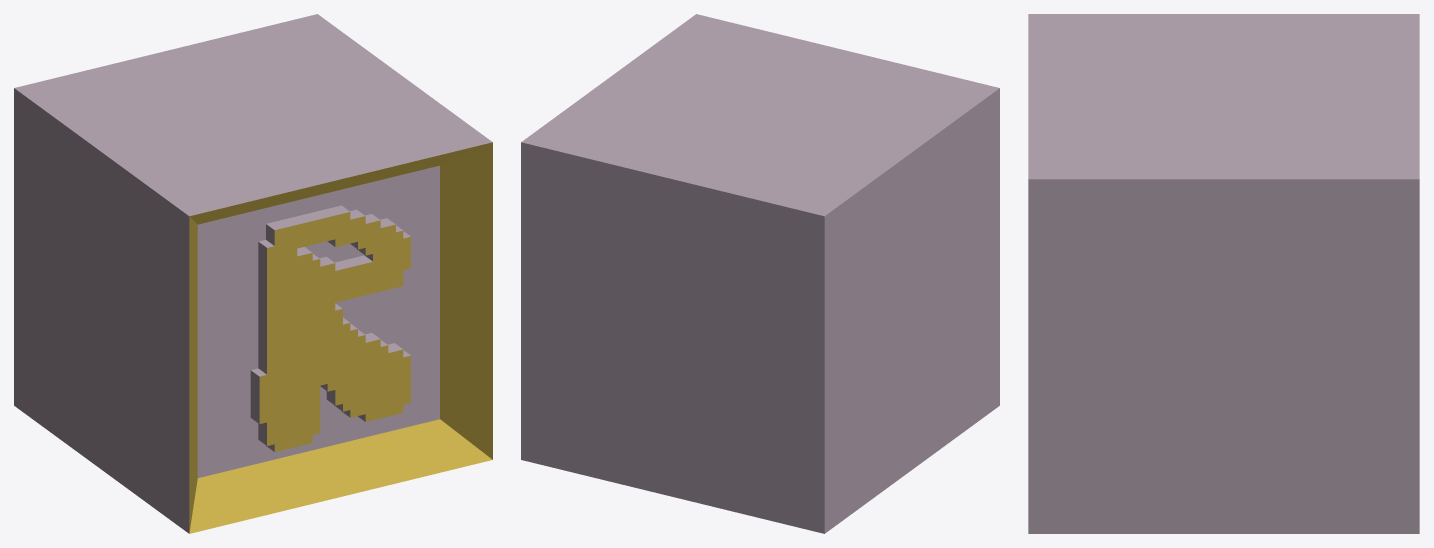
The model's file is BlockR.fbx.
The picture shows the model from 3 angles, left to right: view 1: azimuth 30°, elevation 25°; view 2: azimuth 150°, elevation 25°; view 3: azimuth 270°, elevation 25°; orthographic projection. The views are drawn at different scales.
Visible parts, largest first — view 1: Cube; view 2: Cube; view 3: Cube.
Part boxes in pixels (bbox=[...]): Cube: bbox=[14, 14, 492, 533]; Cube: bbox=[521, 14, 999, 533]; Cube: bbox=[1028, 14, 1419, 533].
Size of the model in its own units: 2000 by 2000 by 2000.
